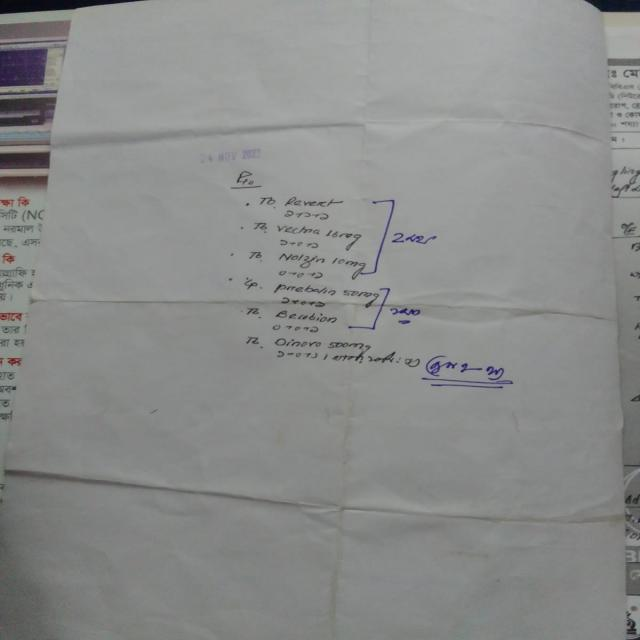Becobion: (274, 309, 353, 325)
Dinovo: (273, 335, 325, 350)
Prebalin: (273, 279, 340, 296)
Revert: (285, 193, 344, 207)
Vectra: (275, 221, 323, 238)
